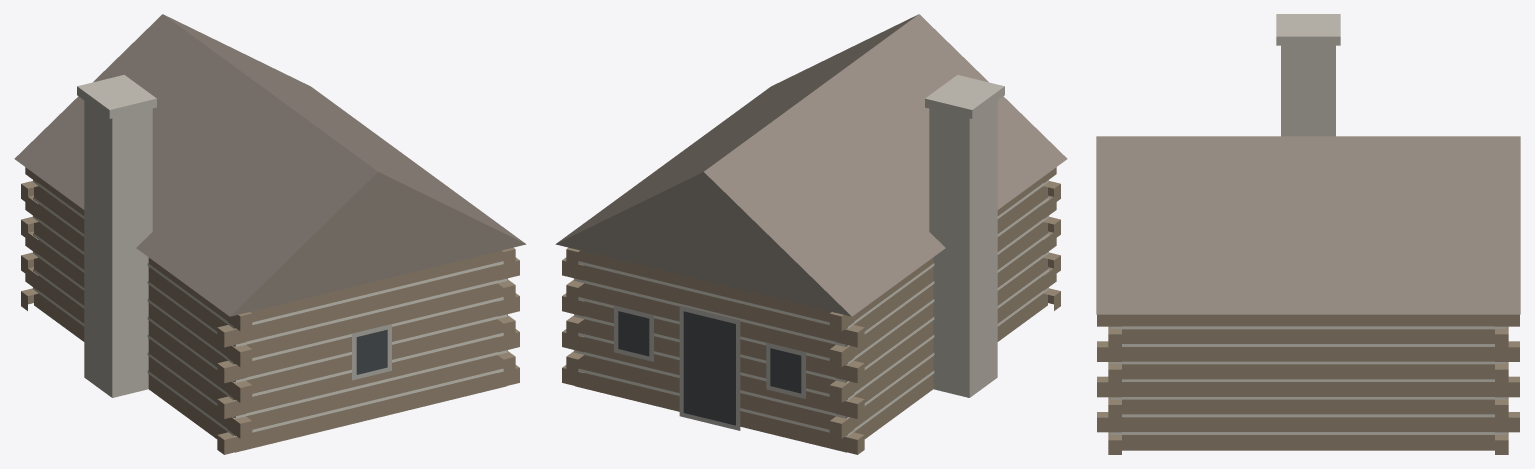
Rendered from recon_1835_north_d1_013__inferred_1835.glb.
The picture shows the model from 3 angles, left to right: view 1: azimuth 30°, elevation 25°; view 2: azimuth 150°, elevation 25°; view 3: azimuth 270°, elevation 25°; orthographic projection.
Parts seen in each view (by area): view 1: recon_1835_north_d1_013__inferred_1835; view 2: recon_1835_north_d1_013__inferred_1835; view 3: recon_1835_north_d1_013__inferred_1835.
Boxes of the visible parts, box(x1,y1,x2,y2) form: recon_1835_north_d1_013__inferred_1835: box(14, 14, 526, 454); recon_1835_north_d1_013__inferred_1835: box(555, 14, 1067, 454); recon_1835_north_d1_013__inferred_1835: box(1096, 14, 1520, 454).
Bounding box in the file's own units: 6.47 × 5.59 × 7.42.
